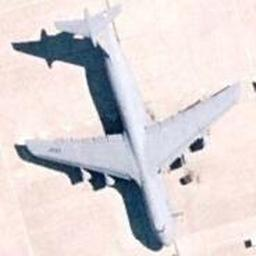Airplane: (12, 1, 249, 251)
